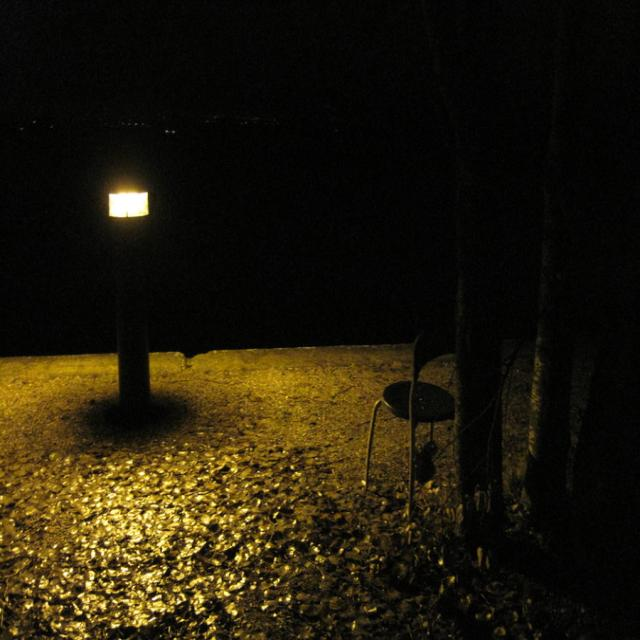chair: (367, 300, 519, 542)
